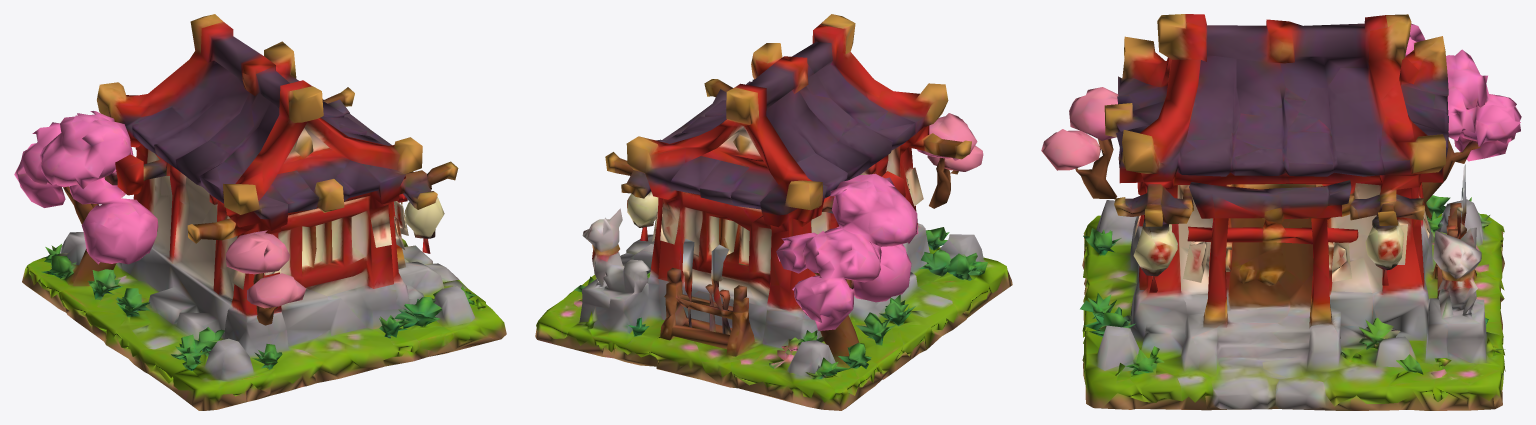
The model's file is jp_barracks.glb.
The picture shows the model from 3 angles, left to right: view 1: azimuth 30°, elevation 25°; view 2: azimuth 150°, elevation 25°; view 3: azimuth 270°, elevation 25°; orthographic projection. The views are drawn at different scales.
Parts seen in each view (by area): view 1: tripo_node_0de04a90-3a09-400b-9b68-3e4ad724a3fa; view 2: tripo_node_0de04a90-3a09-400b-9b68-3e4ad724a3fa; view 3: tripo_node_0de04a90-3a09-400b-9b68-3e4ad724a3fa.
Boxes of the visible parts, x1,y1,x2,y2 form: tripo_node_0de04a90-3a09-400b-9b68-3e4ad724a3fa: [14, 14, 506, 410]; tripo_node_0de04a90-3a09-400b-9b68-3e4ad724a3fa: [535, 14, 1012, 410]; tripo_node_0de04a90-3a09-400b-9b68-3e4ad724a3fa: [1041, 14, 1521, 410].
Size of the model in its own units: 0.9425 by 0.6808 by 0.9902.
1 material, 1 textured.
